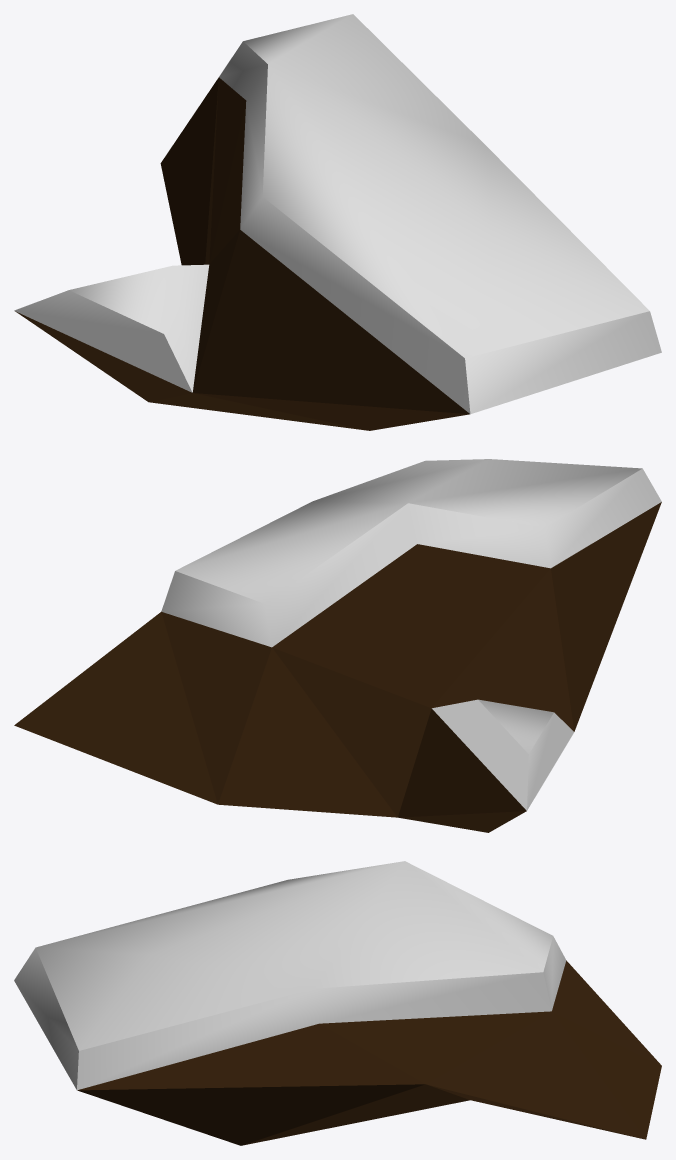
Rendered from rock3.fbx.
3 renders of one model, top to bottom at view 1: azimuth 30°, elevation 25°; view 2: azimuth 150°, elevation 25°; view 3: azimuth 270°, elevation 25°, orthographic. The views are drawn at different scales.
Parts seen in each view (by area): view 1: merge6; view 2: merge6; view 3: merge6.
Boxes of the visible parts, x1,y1,x2,y2 form: merge6: [14, 14, 661, 430]; merge6: [14, 459, 661, 832]; merge6: [14, 861, 661, 1145].
Size of the model in its own units: 1.58 by 1.03 by 2.29.
